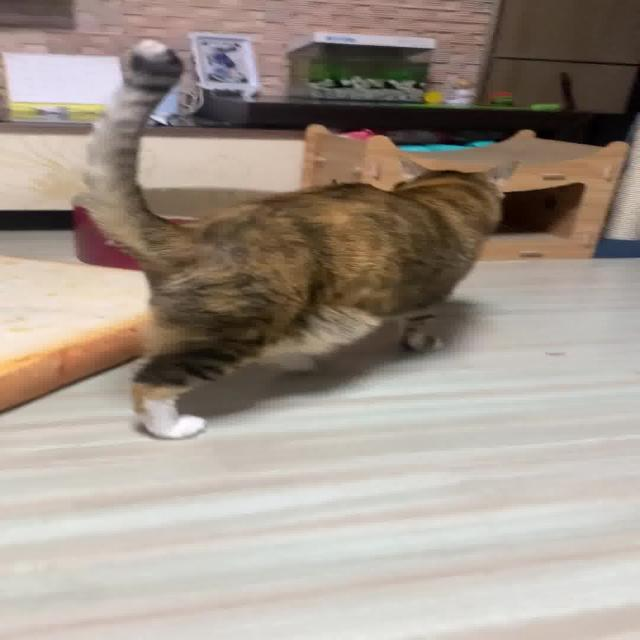cat: (61, 28, 537, 449)
